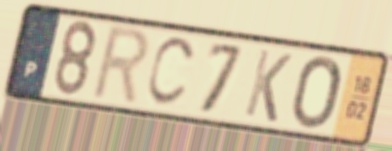7: (200, 40, 246, 117)
8: (52, 19, 97, 99)
C: (143, 36, 200, 111)
K: (242, 46, 295, 125)
O: (289, 54, 344, 132)
R: (87, 23, 153, 109)
